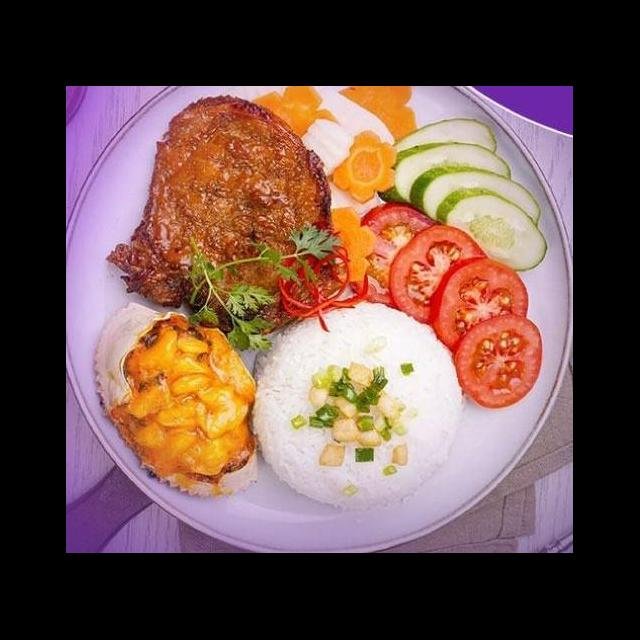com: (246, 293, 468, 516)
com suon: (89, 108, 554, 536)
dua chua: (248, 88, 422, 206), (318, 204, 378, 290)
suon: (106, 90, 342, 340)
